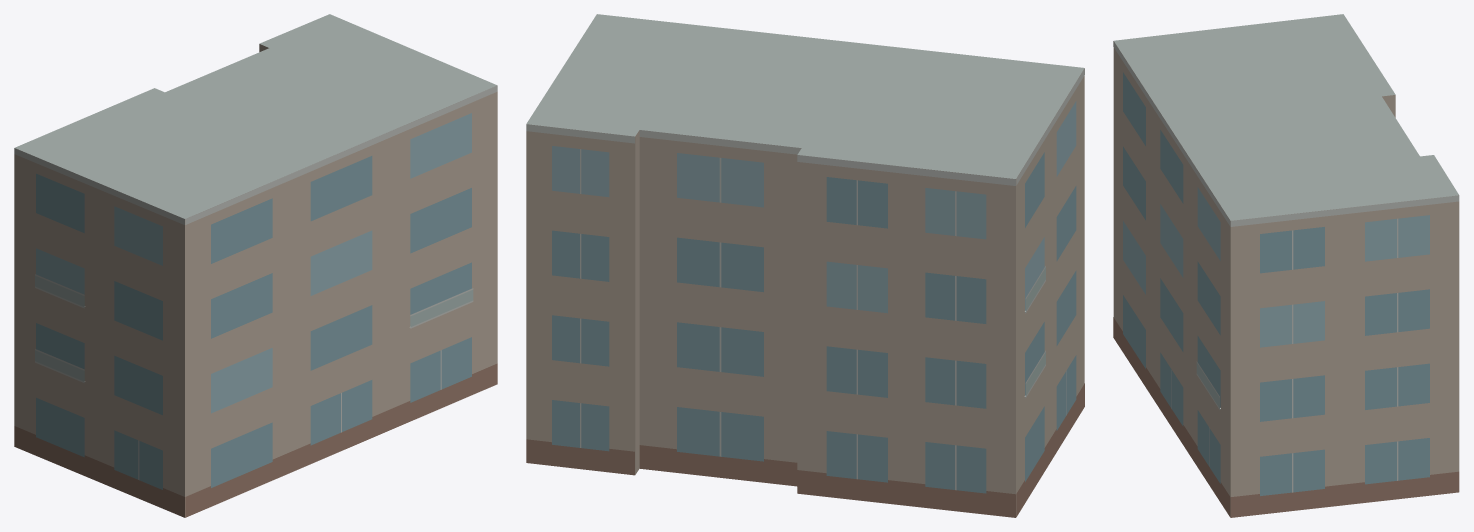
File: survey-upis-32651105.glb
3 views of the same model, side by side, from view 1: azimuth 30°, elevation 25°; view 2: azimuth 150°, elevation 25°; view 3: azimuth 270°, elevation 25° (orthographic). The views are drawn at different scales.
Visible parts, largest first — view 1: survey-upis-32651105.tmp; view 2: survey-upis-32651105.tmp; view 3: survey-upis-32651105.tmp.
Boxes of the visible parts, x1,y1,x2,y2 form: survey-upis-32651105.tmp: (14,14,497,517); survey-upis-32651105.tmp: (526,14,1084,517); survey-upis-32651105.tmp: (1113,14,1459,517).
Size of the model in its own units: 17.64 by 11.8 by 12.46.
